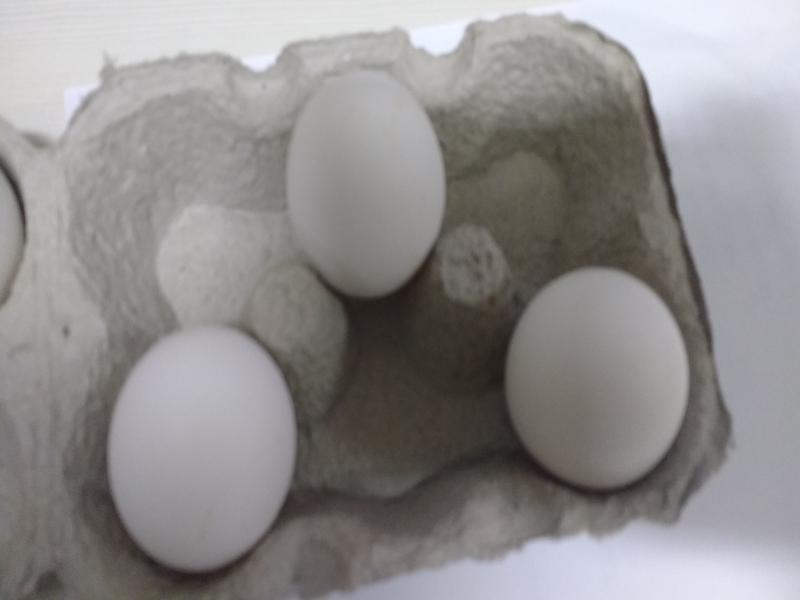egg: (111, 330, 297, 571)
